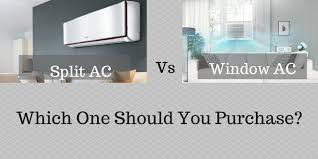ac: (55, 1, 143, 54)
